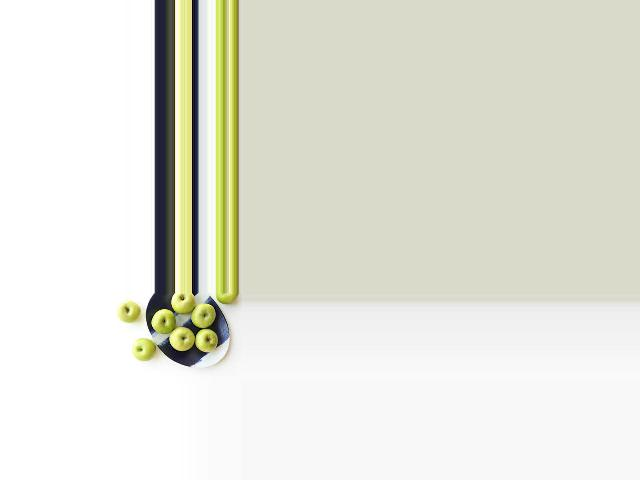apple: (193, 328, 217, 354)
